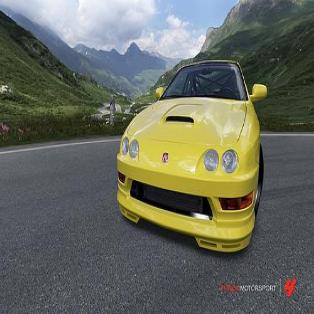Auto: (113, 56, 268, 258)
